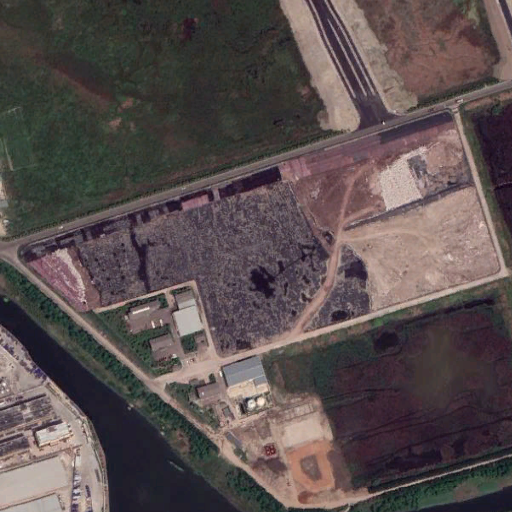lf: (17, 110, 500, 356)
